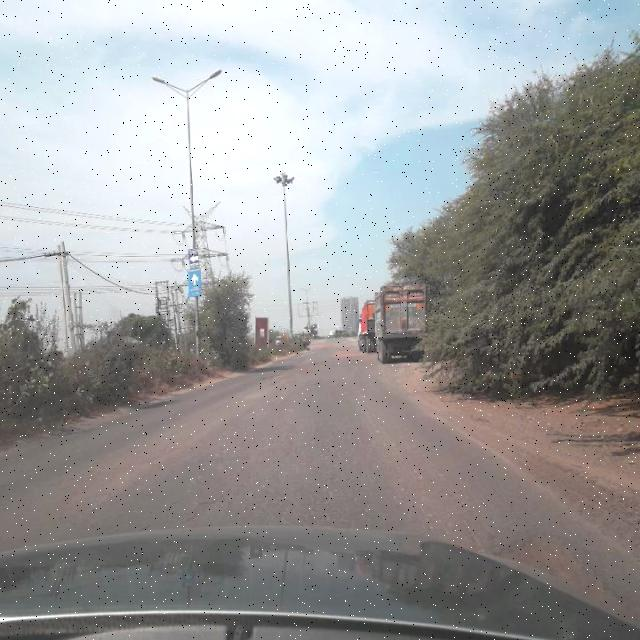D20: (220, 388, 402, 524)
D40: (480, 508, 626, 608), (182, 466, 234, 521), (311, 339, 355, 361), (252, 364, 295, 386)
